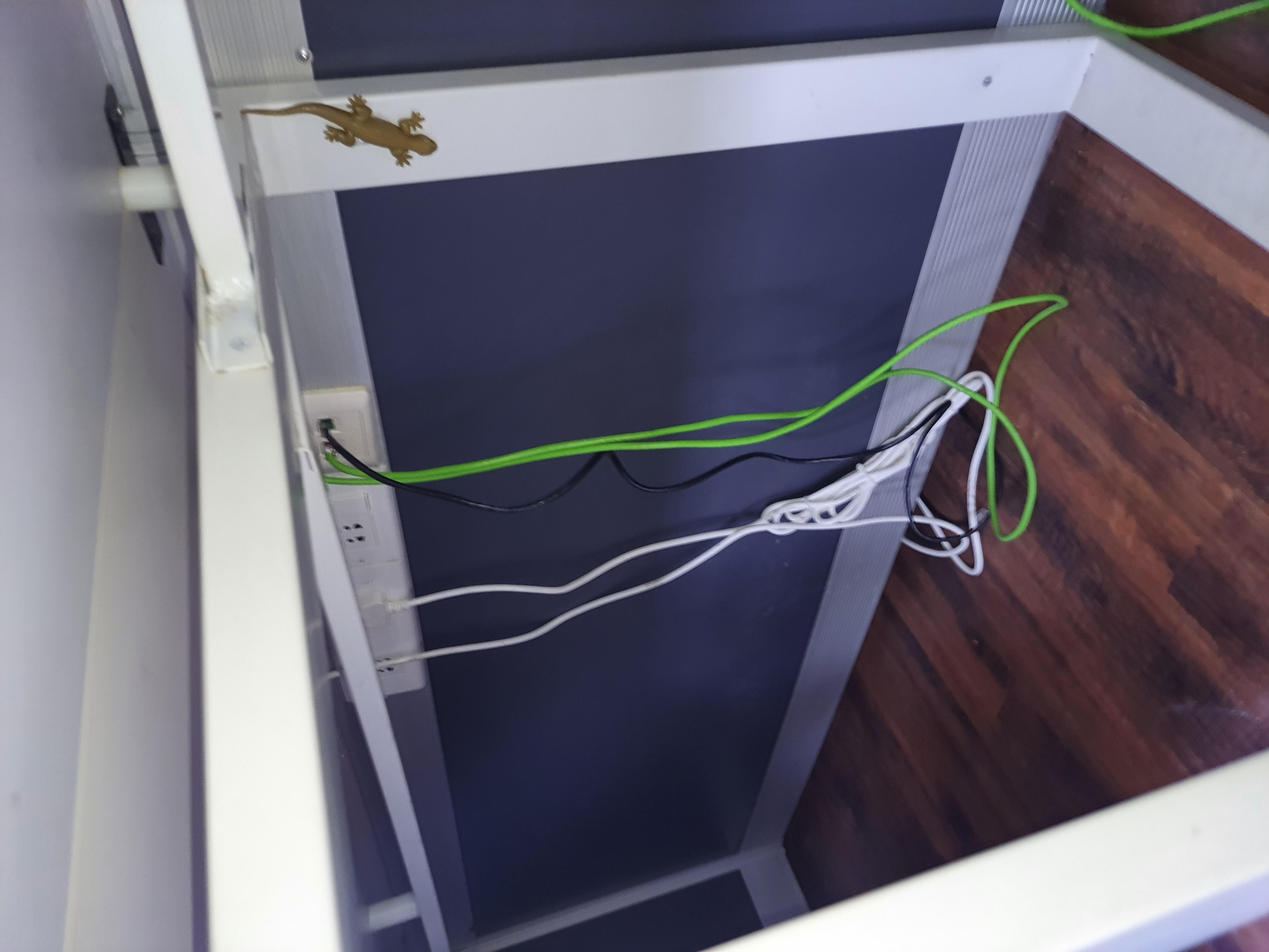cockroach: (1040, 182, 1151, 340)
